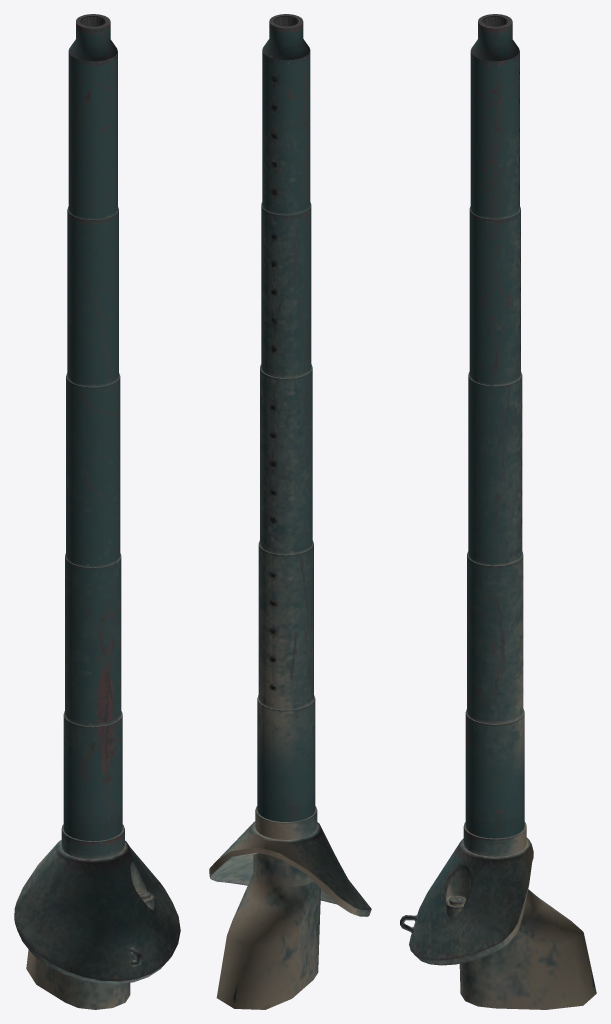
The model's file is Gun_01.glb.
The picture shows the model from 3 angles, left to right: view 1: azimuth 30°, elevation 25°; view 2: azimuth 150°, elevation 25°; view 3: azimuth 270°, elevation 25°; orthographic projection. The views are drawn at different scales.
Parts seen in each view (by area): view 1: set_0_group_0; view 2: set_0_group_0; view 3: set_0_group_0.
Part boxes in pixels (x1=…): set_0_group_0: x1=14, y1=14, x2=180, y2=1009; set_0_group_0: x1=209, y1=14, x2=371, y2=1009; set_0_group_0: x1=400, y1=14, x2=596, y2=1009.
Size of the model in its own units: 0.7399 by 4.63 by 0.8488.
Materials: 1 (1 with a texture image).
